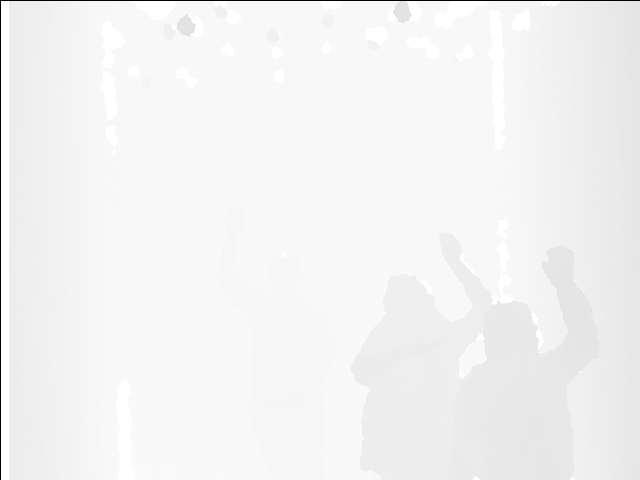hand: (540, 247, 577, 291), (440, 231, 468, 274), (219, 208, 251, 243)
